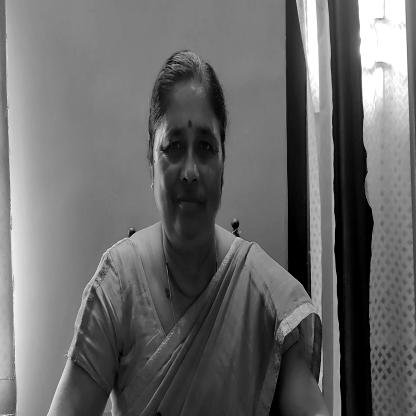Normal: (141, 38, 228, 260)
